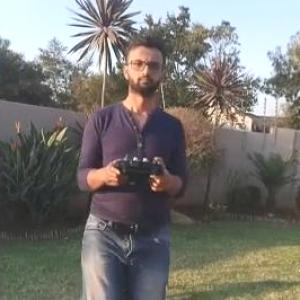follow: (73, 28, 188, 299)
